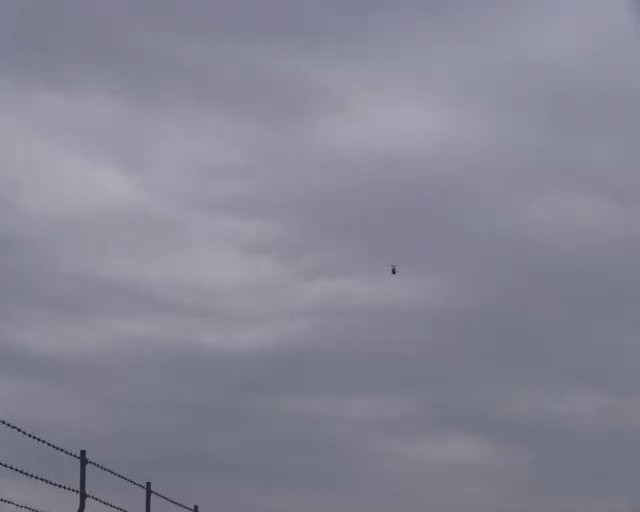HELICOPTER: (388, 265, 396, 275)
